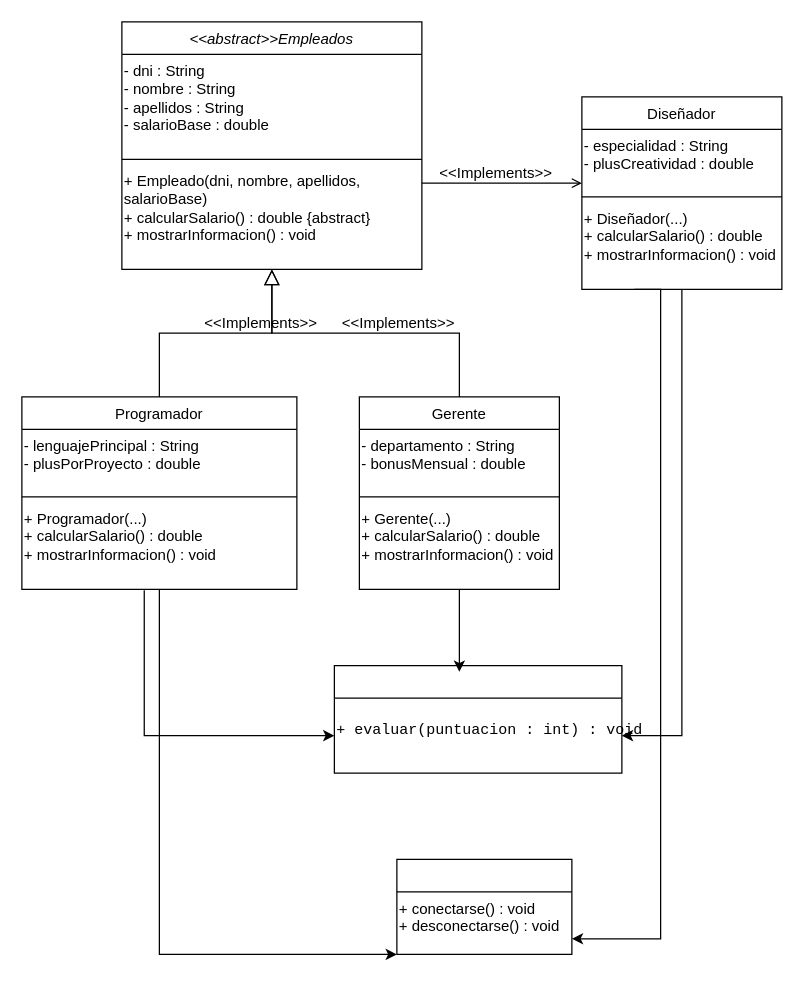
Image size: 804x986. Some labels were removed from this diagram. Here are the shapes that lost their labels. From the top down, the box of each, then its label:
(333, 664, 622, 773): <<interface>> Evaluable
(396, 858, 572, 954): <<interface>> Remoto
